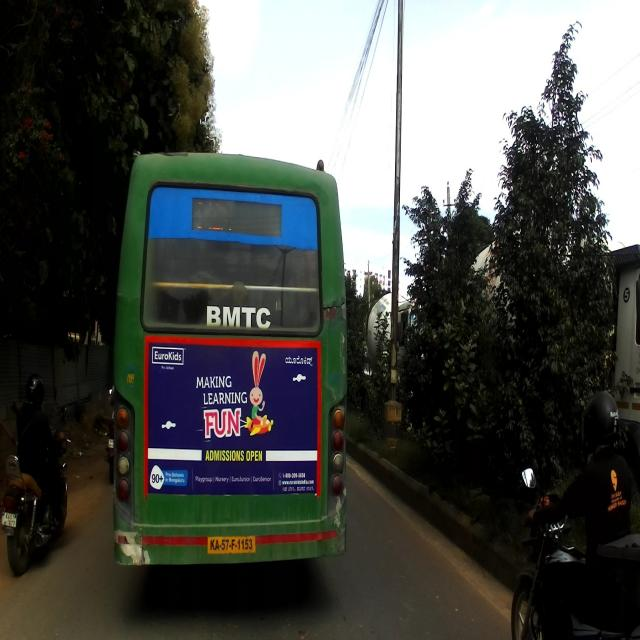bus: (111, 144, 346, 569)
motorcycle_bajaj: (0, 404, 71, 576)
